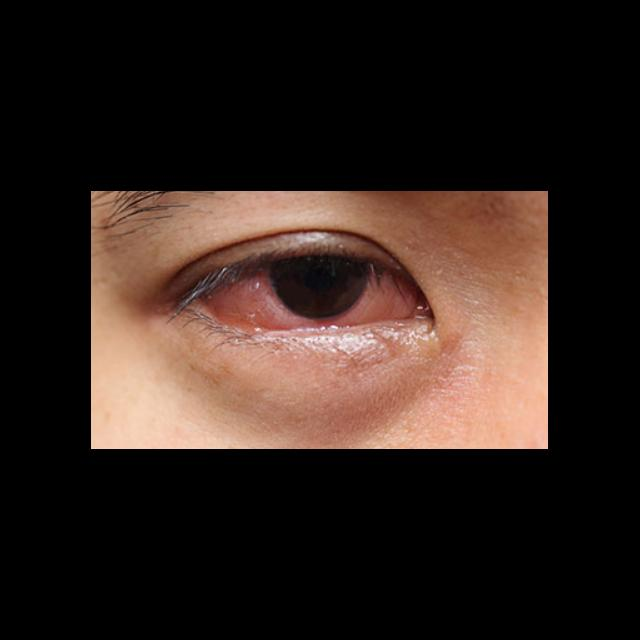eye: (216, 257, 415, 329)
iris: (272, 259, 369, 321)
